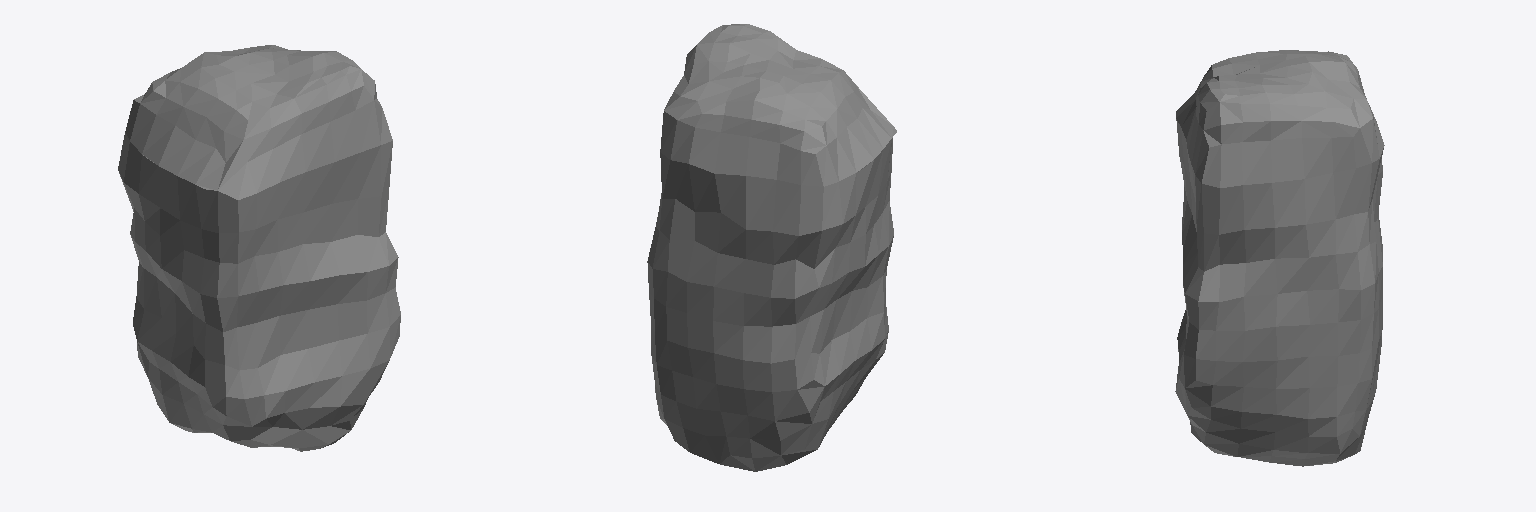
File: rock.obj
3 views of the same model, side by side, from view 1: azimuth 30°, elevation 25°; view 2: azimuth 150°, elevation 25°; view 3: azimuth 270°, elevation 25° (orthographic).
Parts seen in each view (by area): view 1: low; view 2: low; view 3: low.
Part boxes in pixels (x1,y1,x2,y2): low: (118, 45, 400, 451); low: (647, 24, 896, 471); low: (1175, 50, 1384, 466).
Bounding box in the file's own units: 25.68 × 46 × 22.43.